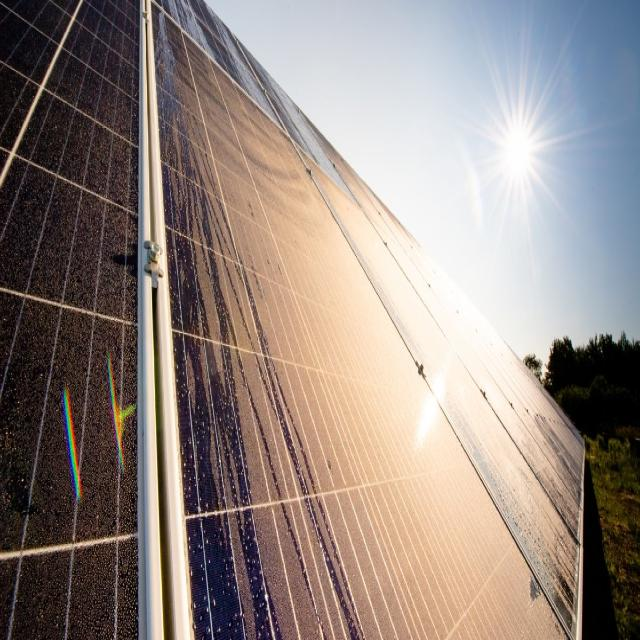dust-solar-panel: (148, 8, 584, 640)
